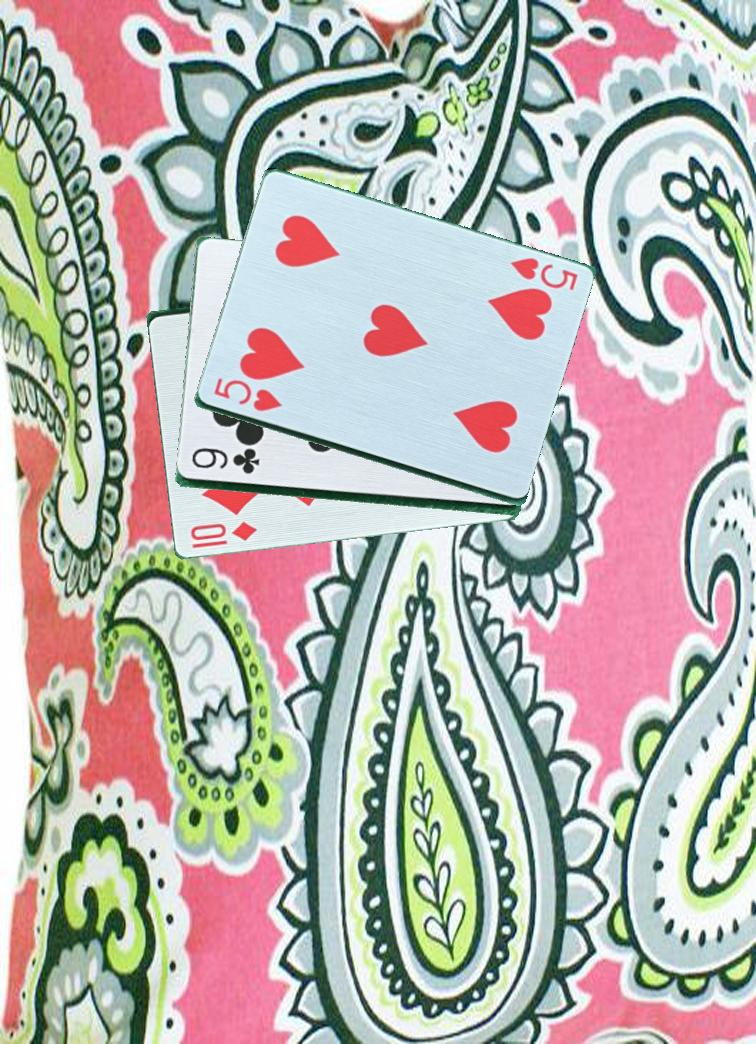5h: (209, 374, 285, 415), (504, 254, 580, 294)
9c: (187, 450, 262, 478)
td: (186, 518, 260, 545)
